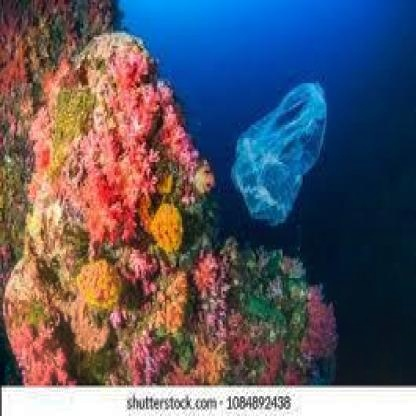pbag: (231, 79, 328, 228)
